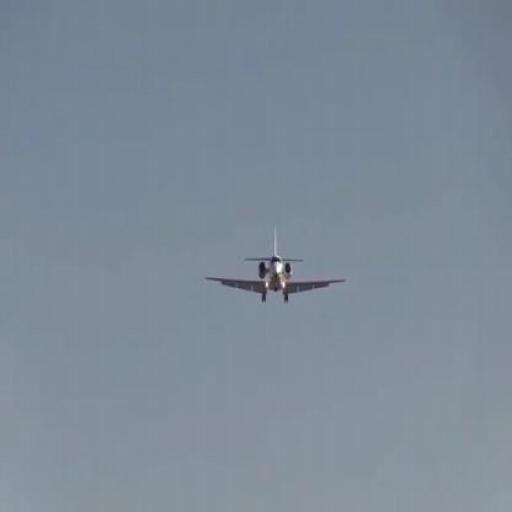aircraft: (204, 228, 347, 304)
